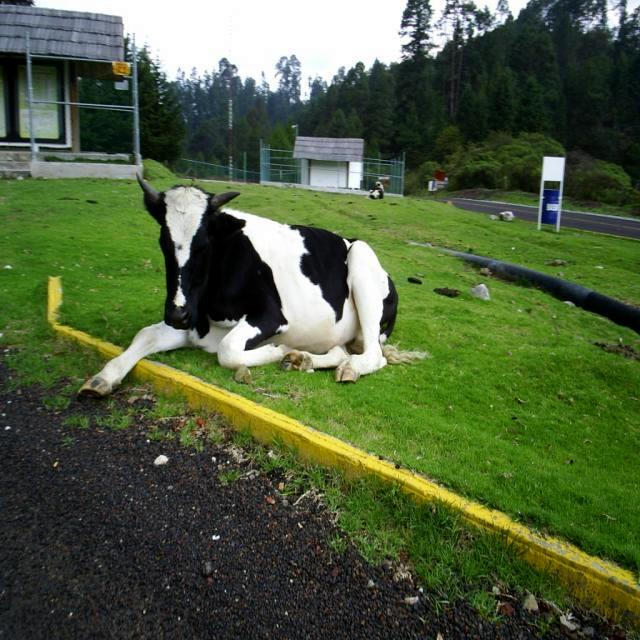COW: (81, 179, 416, 395)
